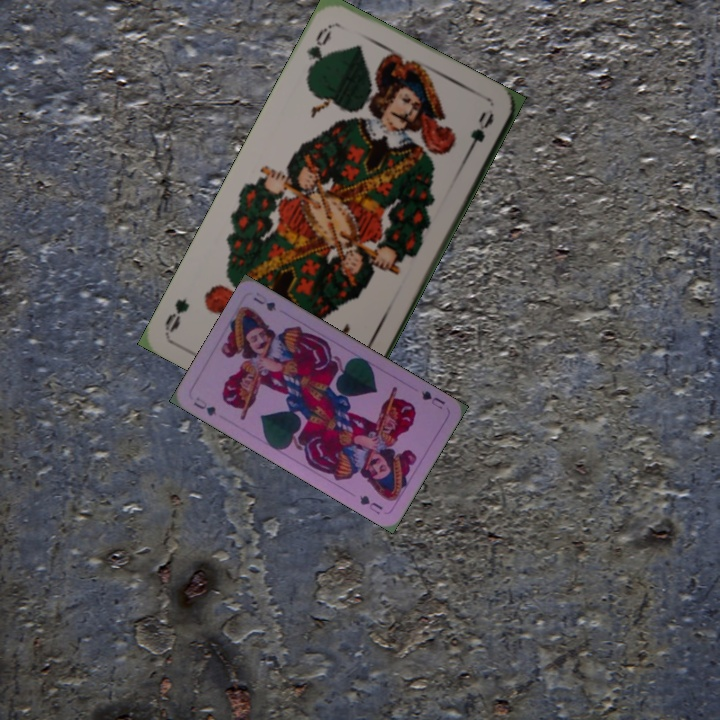GO: (302, 21, 335, 77)
GU: (417, 386, 448, 412), (189, 393, 219, 419)
